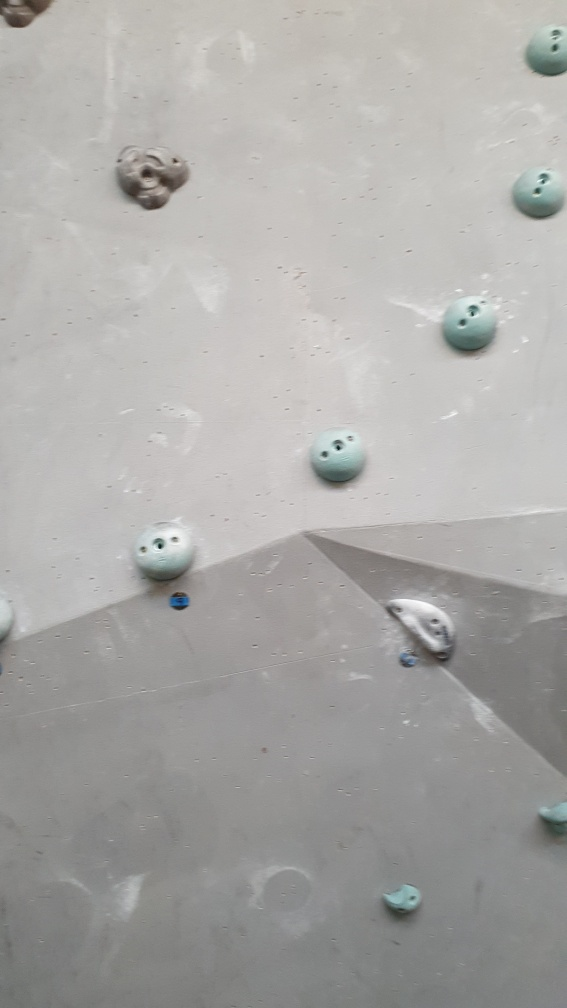Hand Start: (397, 642, 426, 669), (167, 588, 192, 611)
Jug: (114, 140, 194, 211)
Sloper: (126, 517, 201, 587), (441, 290, 505, 355), (306, 425, 371, 488), (514, 163, 567, 226), (522, 21, 567, 83)
